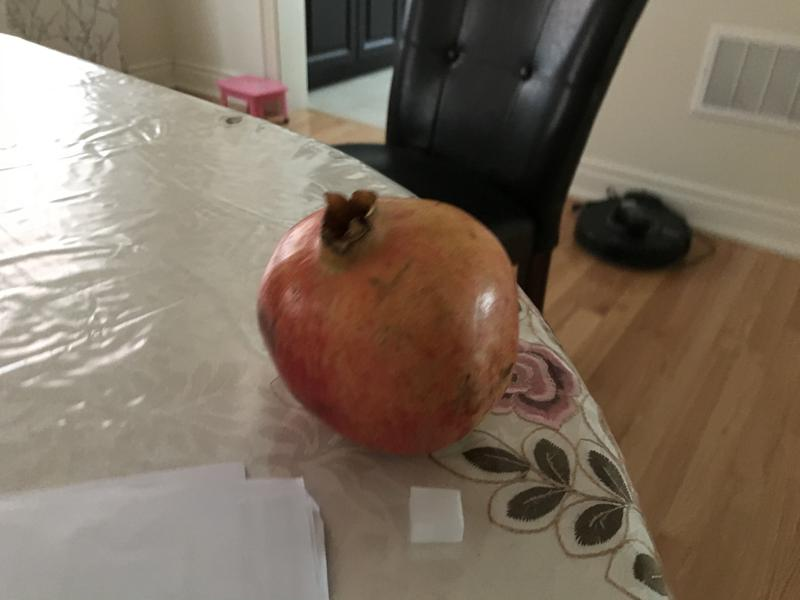pomegranate: (244, 181, 536, 472)
